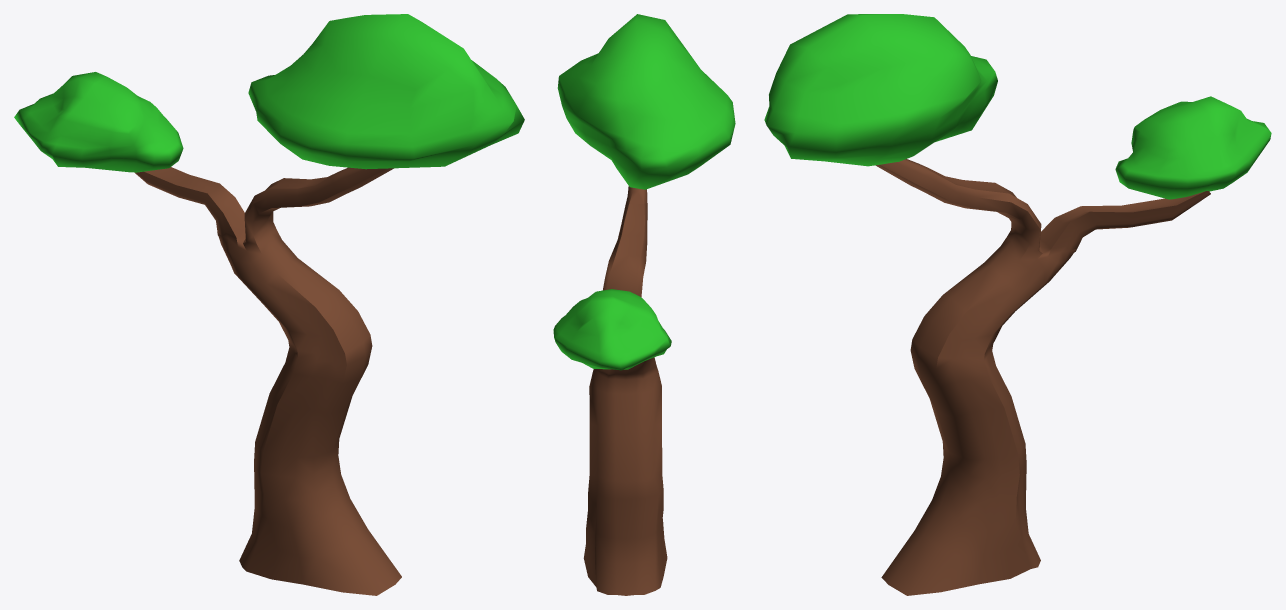
The model's file is SM_Tree.fbx.
3 renders of one model, left to right at view 1: azimuth 30°, elevation 25°; view 2: azimuth 150°, elevation 25°; view 3: azimuth 270°, elevation 25°, orthographic. The views are drawn at different scales.
Visible parts, largest first — view 1: SM_TreeMedium1; view 2: SM_TreeMedium1; view 3: SM_TreeMedium1.
Boxes of the visible parts, x1=… form: SM_TreeMedium1: x1=14, y1=14, x2=524, y2=595; SM_TreeMedium1: x1=553, y1=14, x2=735, y2=595; SM_TreeMedium1: x1=764, y1=14, x2=1271, y2=595.
Bounding box in the file's own units: 8.35 × 16.2 × 13.
